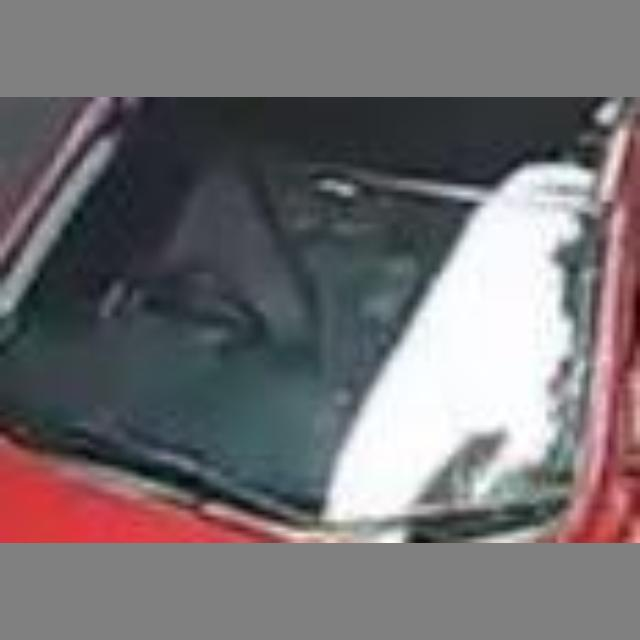pakai: (138, 163, 392, 389)
